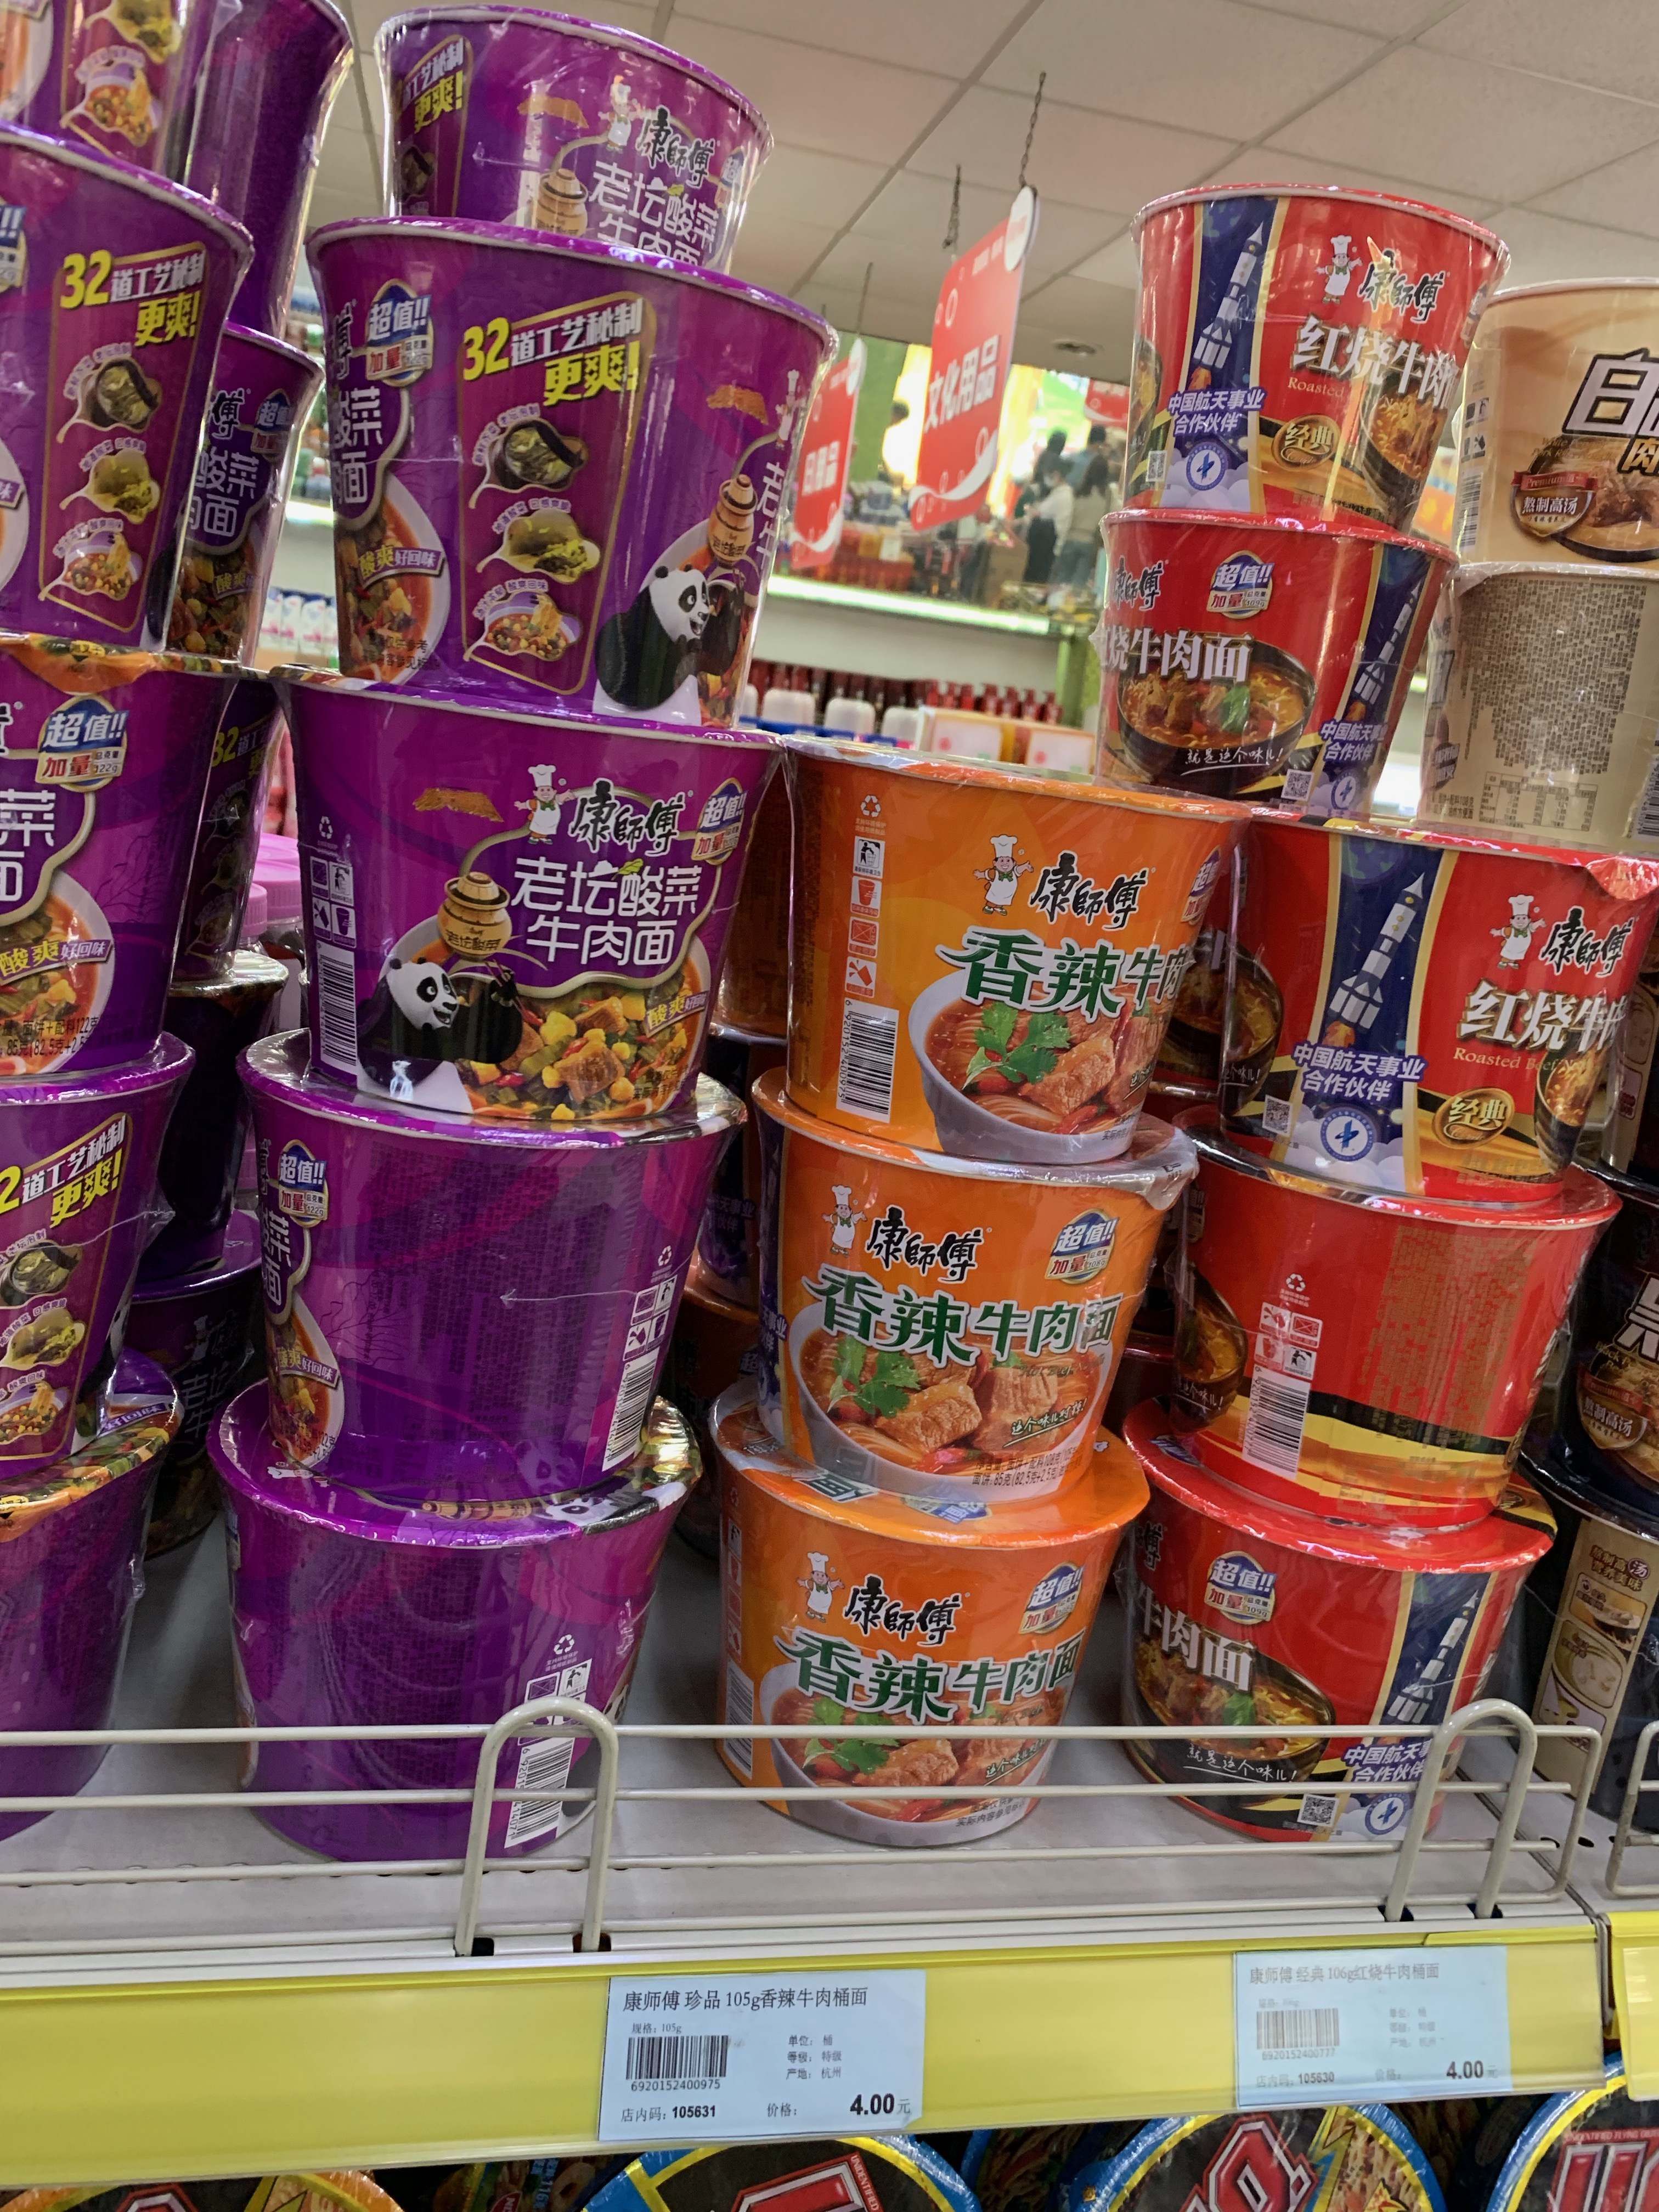xiangla: (782, 725, 1249, 1169), (706, 1395, 1154, 1855), (755, 1066, 1197, 1500)
